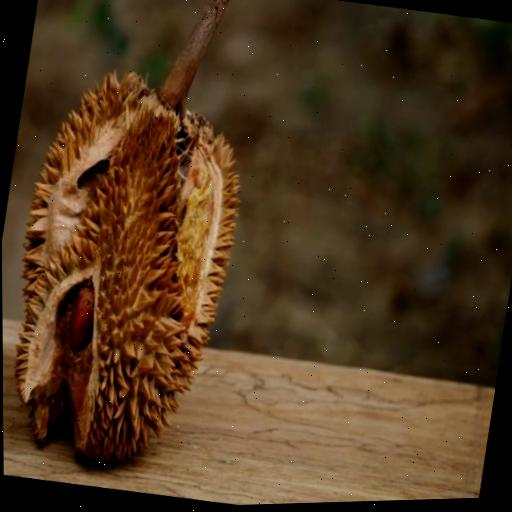rot: (0, 0, 305, 510)
